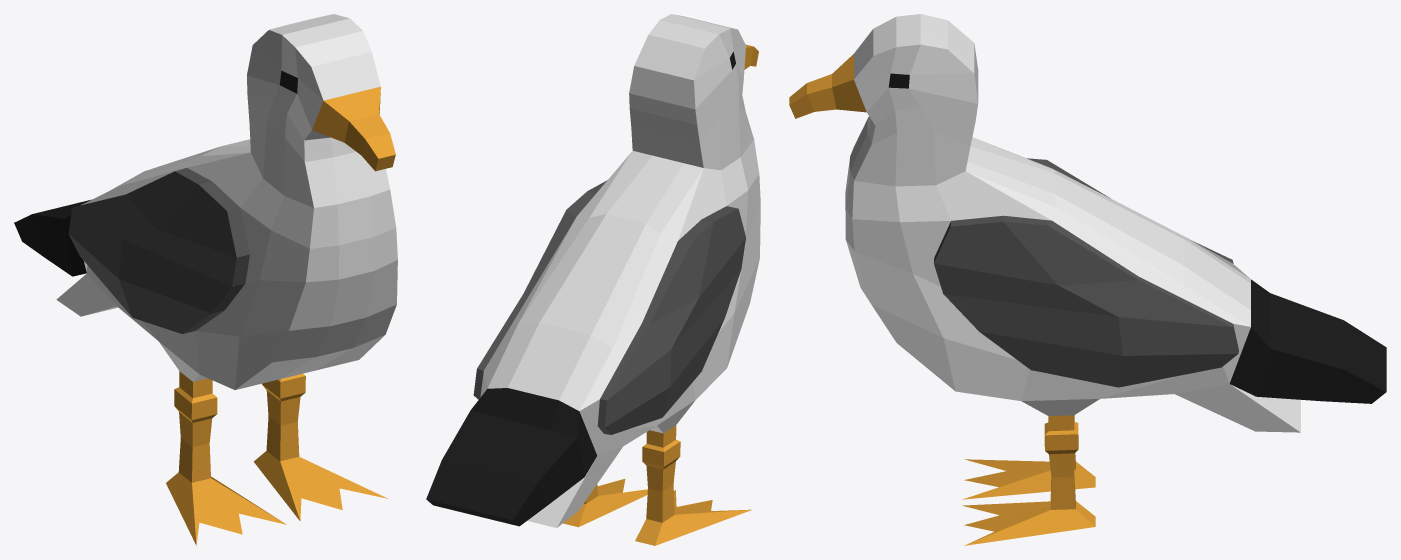
The model's file is seegol.fbx.
3 views of the same model, side by side, from view 1: azimuth 30°, elevation 25°; view 2: azimuth 150°, elevation 25°; view 3: azimuth 270°, elevation 25° (orthographic). The views are drawn at different scales.
Parts seen in each view (by area): view 1: Cube; view 2: Cube; view 3: Cube.
Part boxes in pixels (x1=…): Cube: x1=14, y1=14, x2=397, y2=545; Cube: x1=426, y1=14, x2=760, y2=545; Cube: x1=789, y1=14, x2=1386, y2=545.
Bounding box in the file's own units: 86.91 × 221 × 253.
